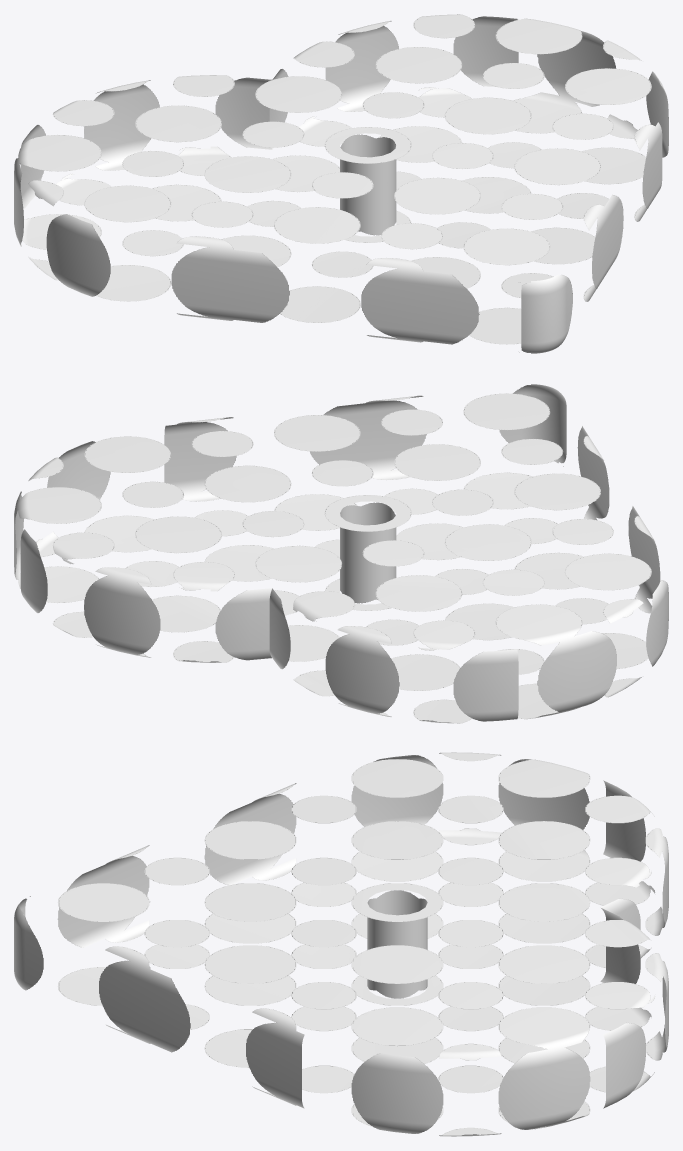
3 views of the same model, one above another, from view 1: azimuth 30°, elevation 25°; view 2: azimuth 150°, elevation 25°; view 3: azimuth 270°, elevation 25° (orthographic). The views are drawn at different scales.
Visible parts, largest first — view 1: Heart.007; view 2: Heart.007; view 3: Heart.007.
Boxes of the visible parts, box(x1,y1,x2,y2) form: Heart.007: box(14, 14, 668, 353); Heart.007: box(14, 384, 668, 723); Heart.007: box(14, 752, 668, 1136).
Bounding box in the file's own units: 571 × 72 × 510.
